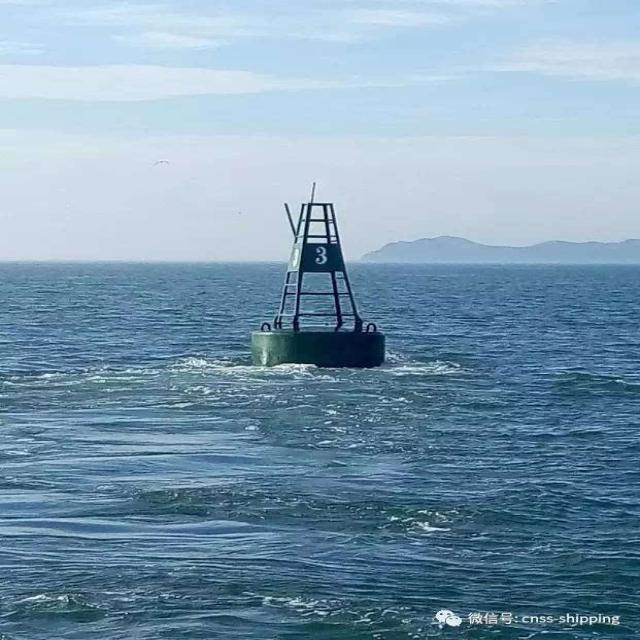buoy: (255, 177, 382, 367)
